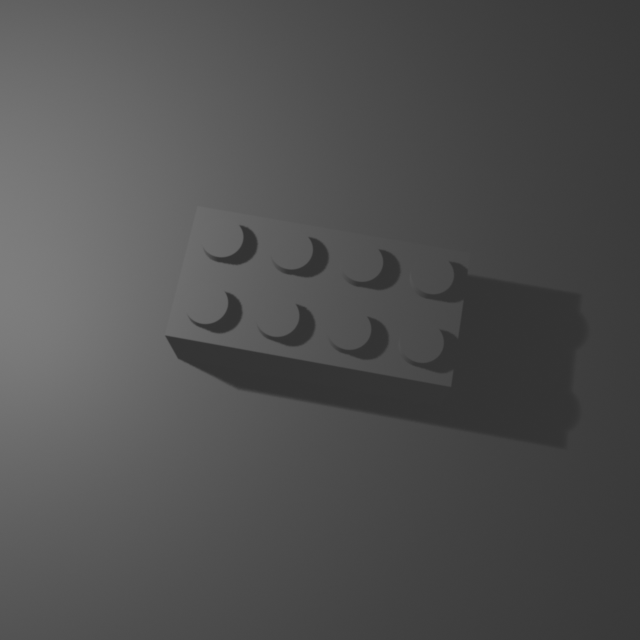lego_2x4: (162, 200, 473, 406)
